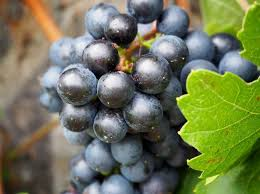Black grapes: (44, 6, 245, 194)
